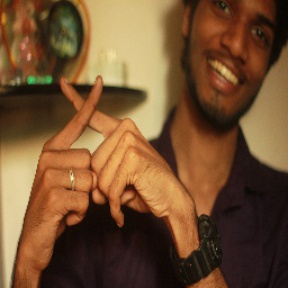X: (31, 69, 143, 166)
